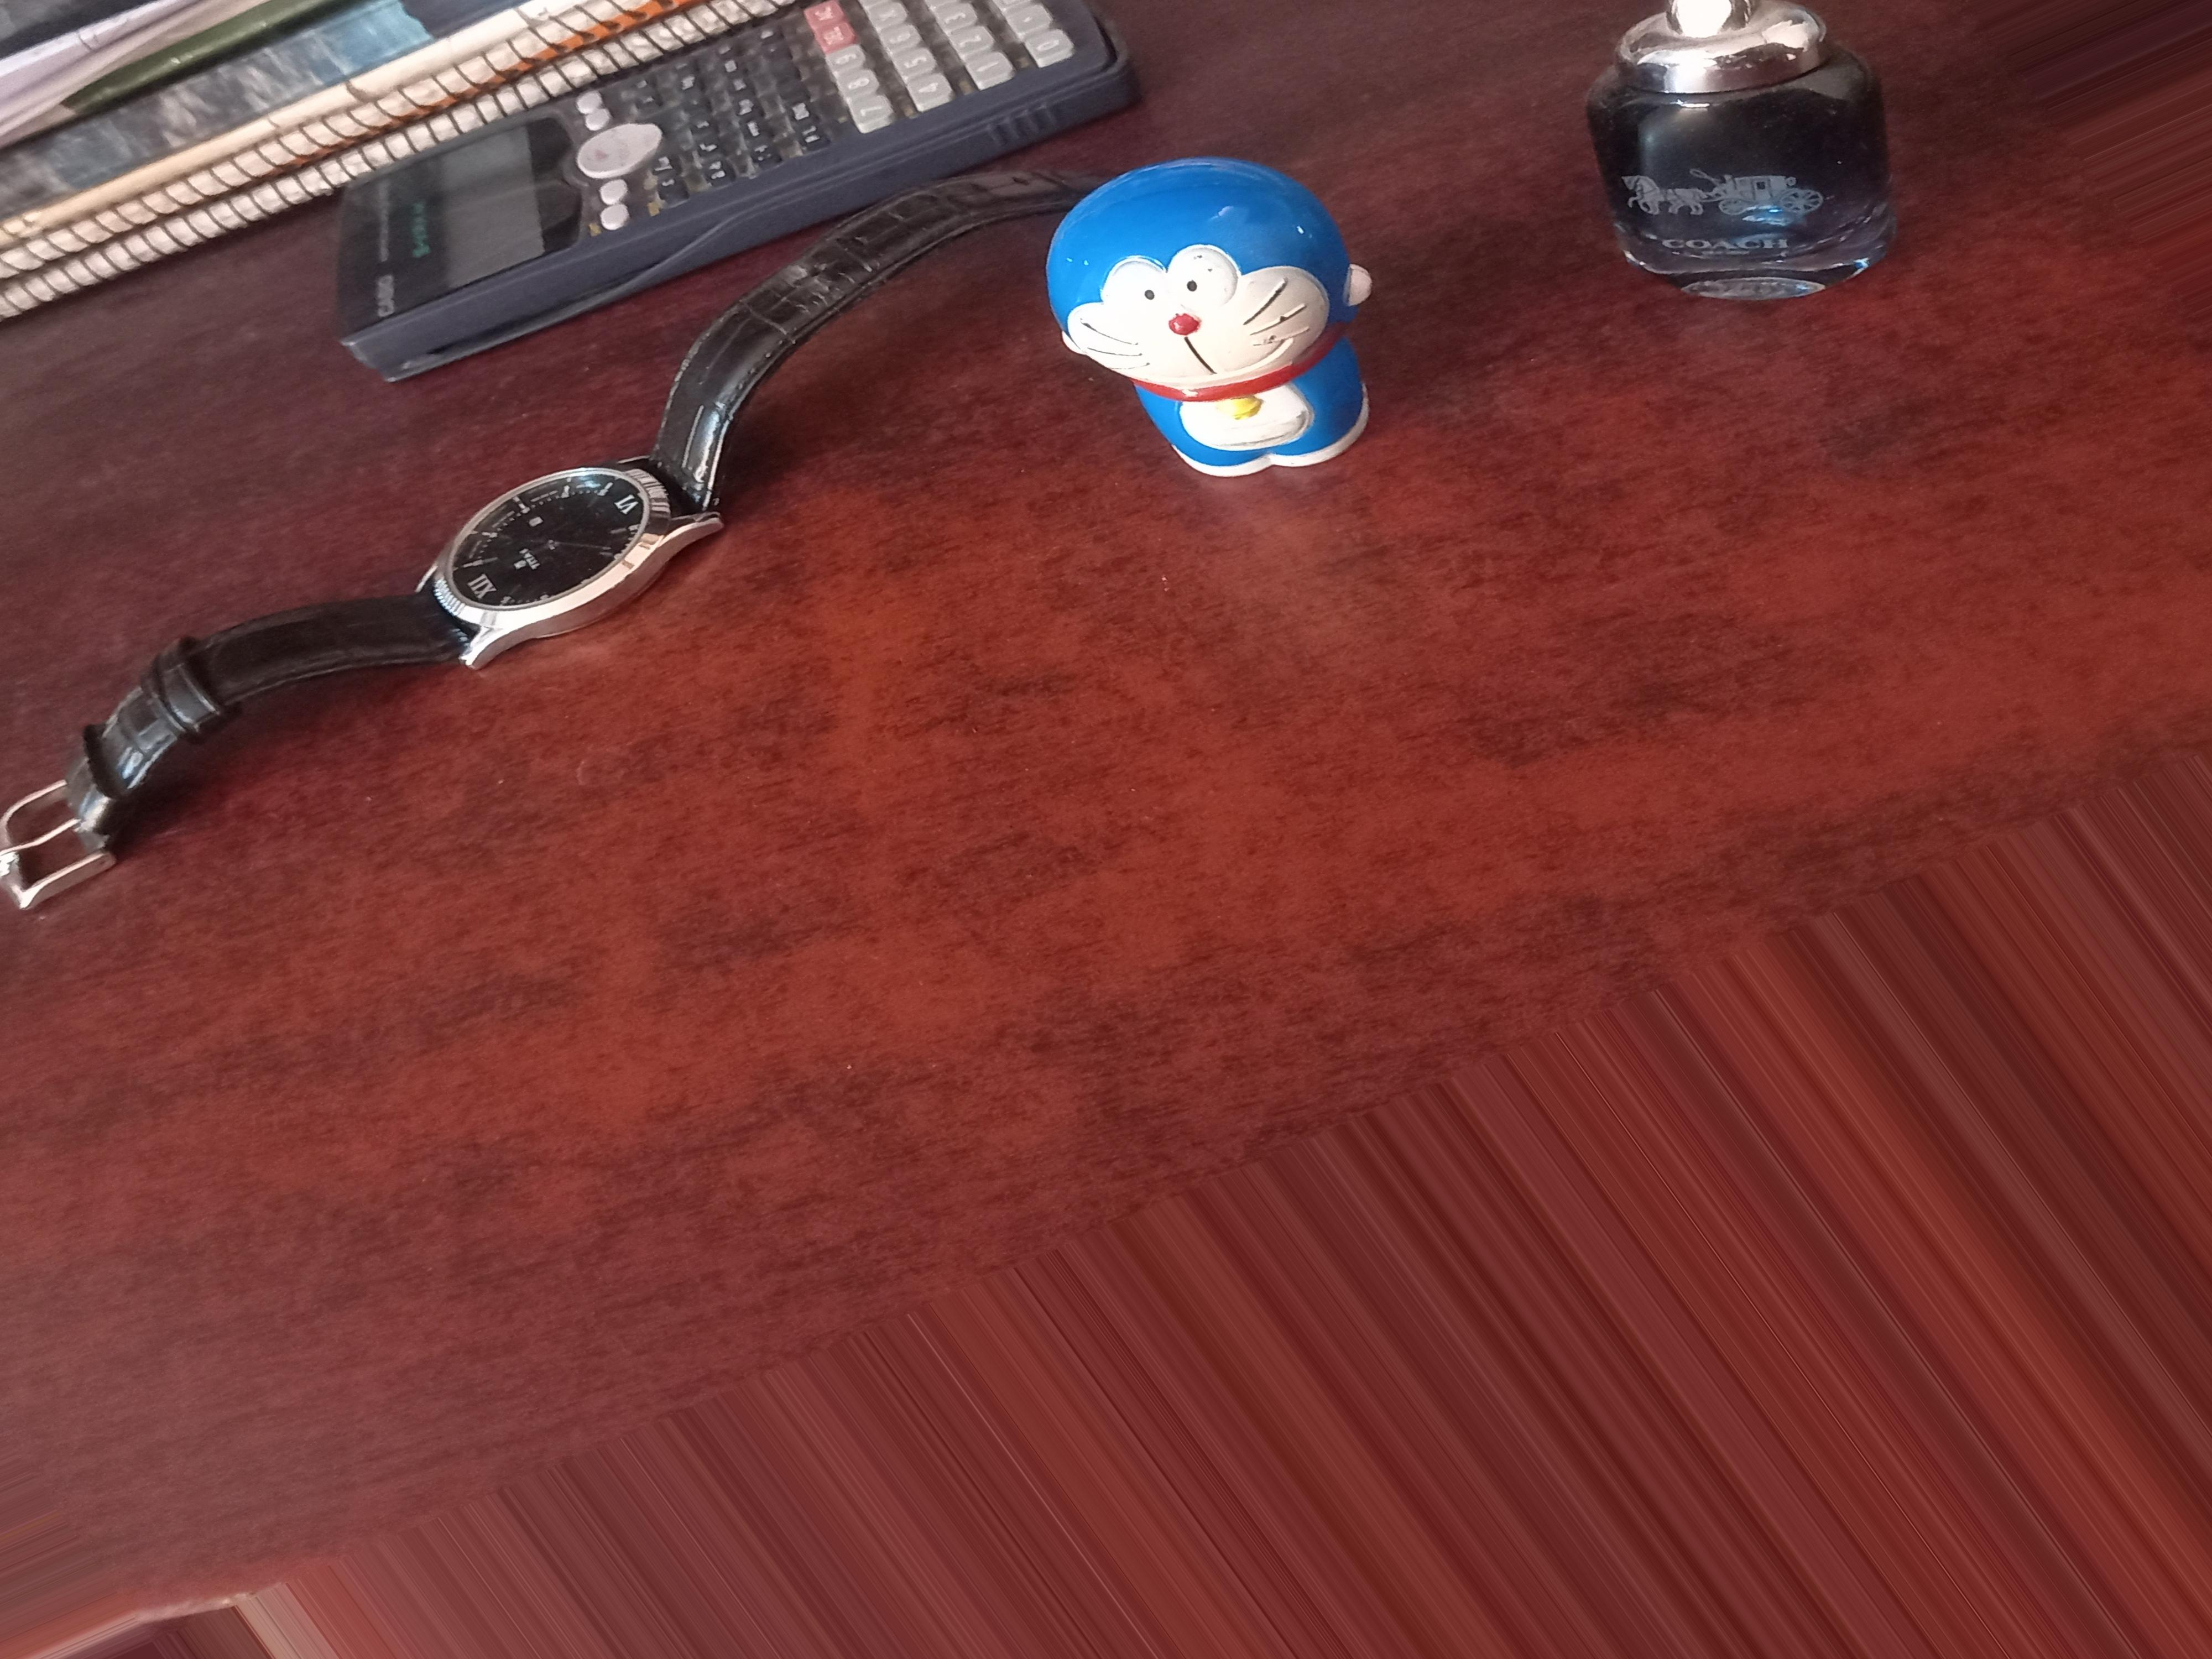calculator: (535, 59, 995, 166)
doraemon: (1055, 223, 1381, 469)
perfume: (1557, 17, 1905, 272)
watch: (378, 450, 772, 695)
